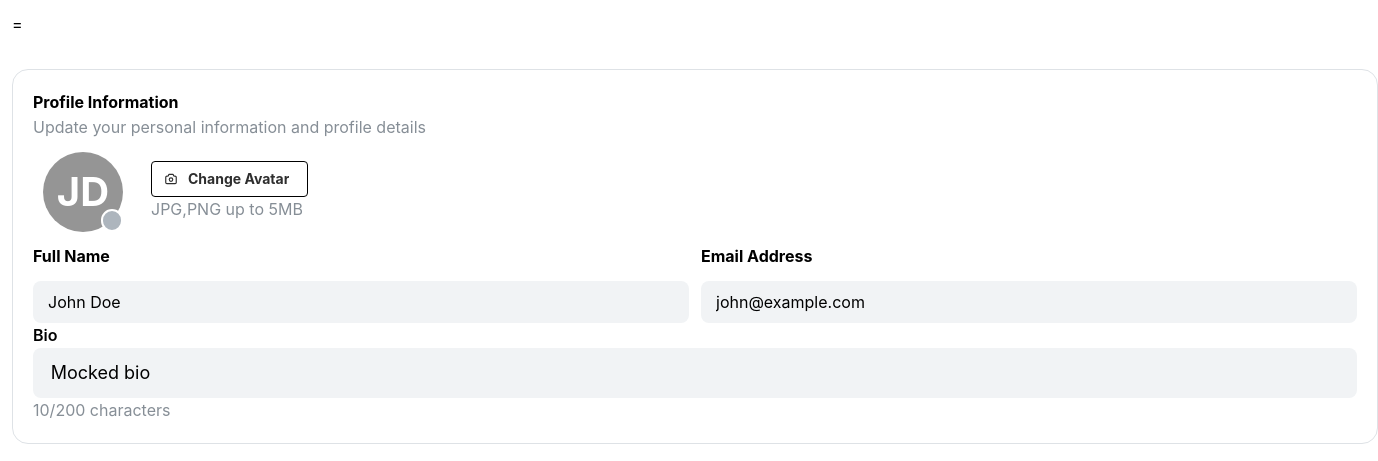
Test case: ProfileInformationCard › updates name, email, and bio inputs correctly
Step 1. Replace the text in the field with test id "name-text-update" with "Jane Doe" → coordinates (361, 302), box top-left (33, 281), bottom-right (689, 323)
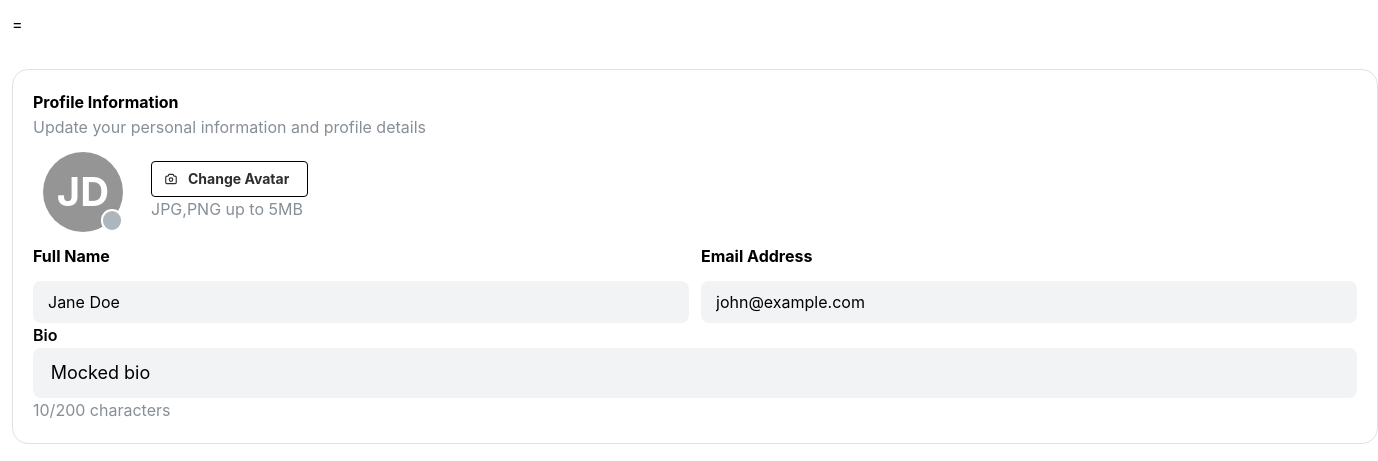
Step 2. Replace the text in the field with test id "email-text-update" with "jane@example.com" → coordinates (1029, 302), box top-left (701, 281), bottom-right (1357, 323)
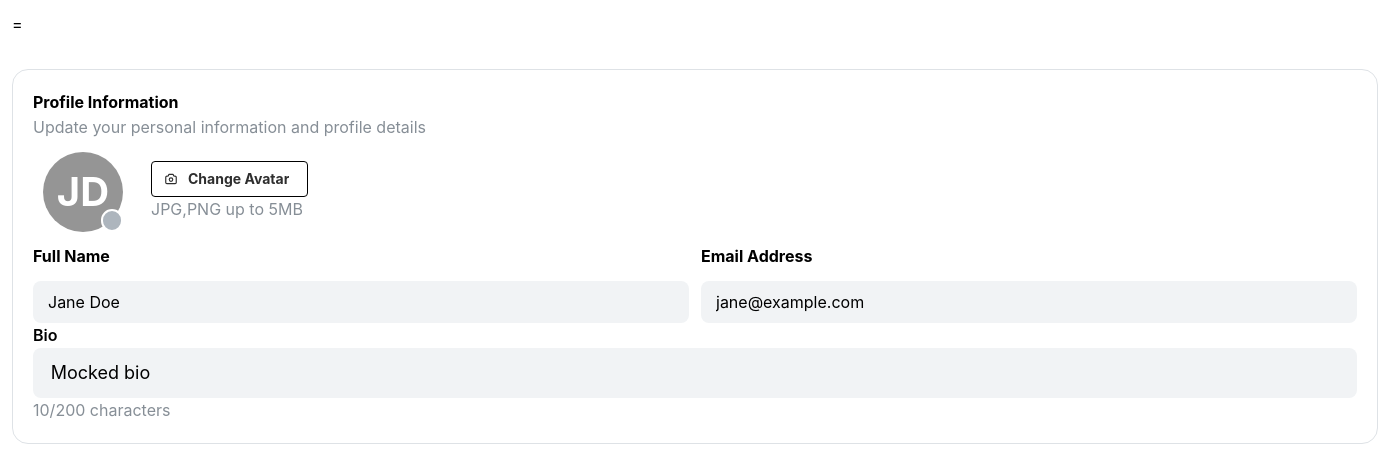
Step 3. Replace the text in the field with test id "bio-text-update" with "Hello world" → coordinates (695, 373), box top-left (33, 348), bottom-right (1357, 398)
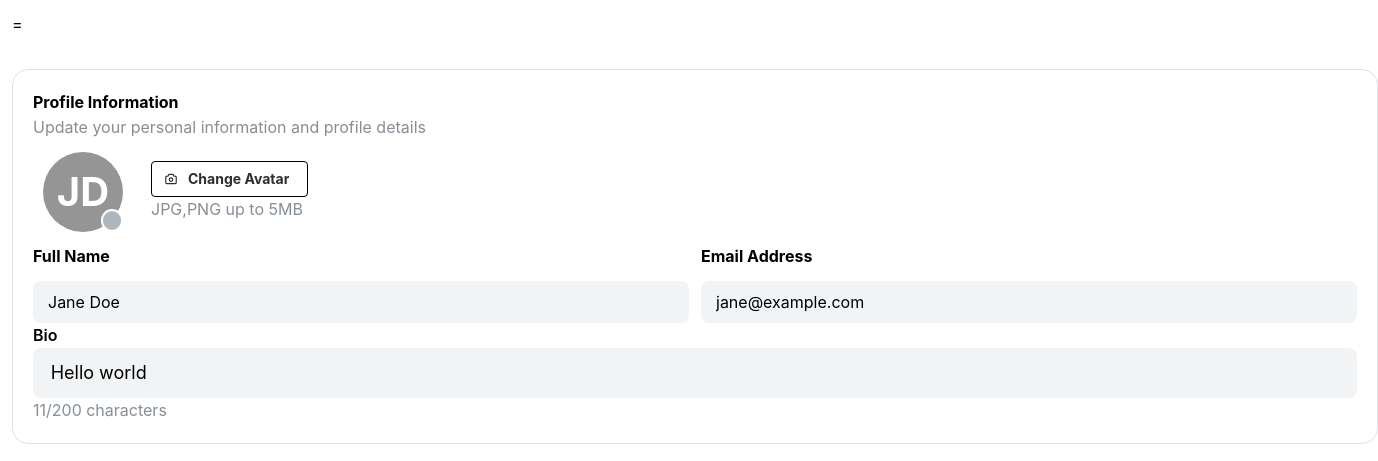
Check: the text with test id "word-counter" reads "11/200 characters", box top-left (33, 400), bottom-right (167, 420)
